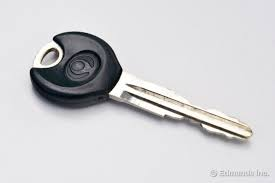kicharina: (29, 28, 256, 146)
